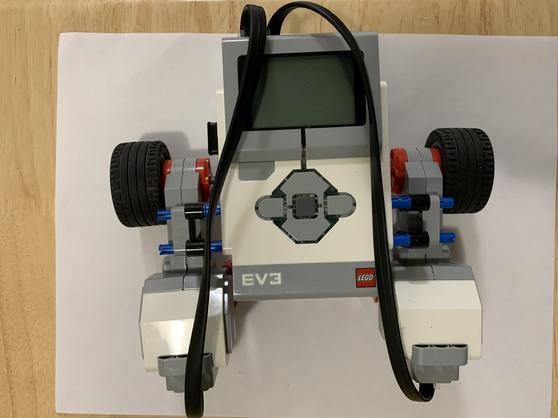robot: (114, 2, 502, 418)
